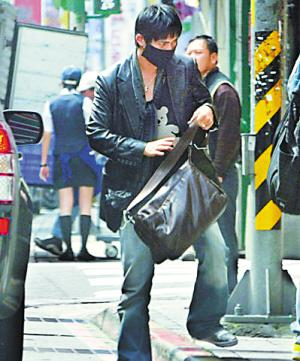NONE: (186, 47, 209, 73)
OK: (146, 36, 178, 68)
